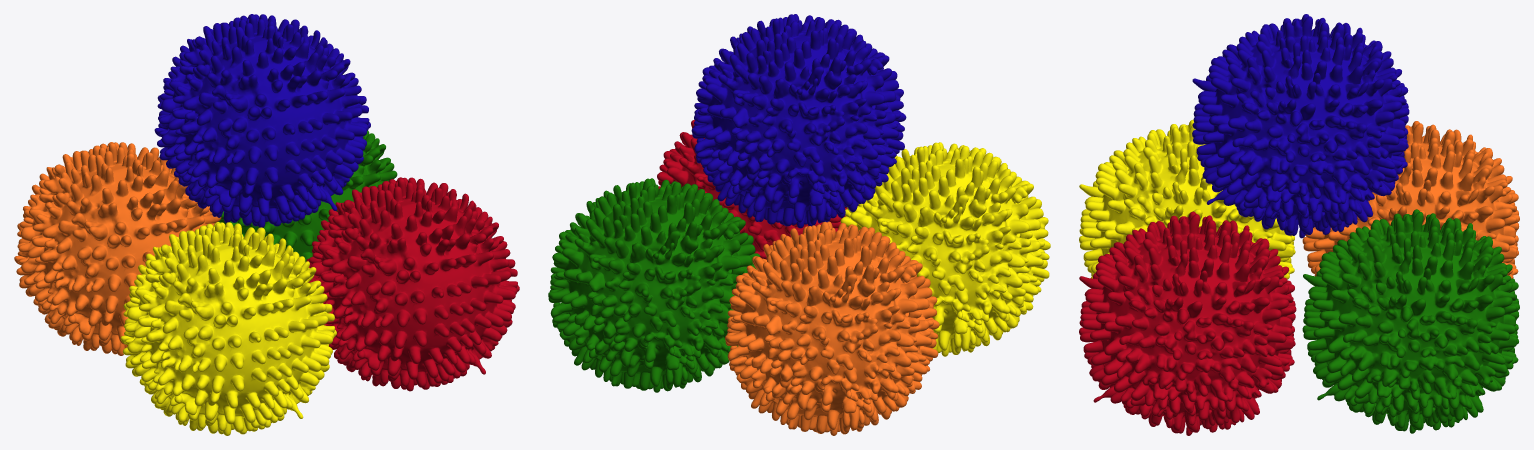
Rendered from Pompom-revisi.fbx.
3 views of the same model, side by side, from view 1: azimuth 30°, elevation 25°; view 2: azimuth 150°, elevation 25°; view 3: azimuth 270°, elevation 25° (orthographic). The views are drawn at different scales.
Parts seen in each view (by area): view 1: tripo_node_65faede3.004, tripo_node_65faede3.002, tripo_node_65faede3, tripo_node_65faede3.001, tripo_node_65faede3.003; view 2: tripo_node_65faede3.004, tripo_node_65faede3.001, tripo_node_65faede3.003, tripo_node_65faede3.002, tripo_node_65faede3; view 3: tripo_node_65faede3, tripo_node_65faede3.004, tripo_node_65faede3.003, tripo_node_65faede3.002, tripo_node_65faede3.001.
Part boxes in pixels (x1=…): tripo_node_65faede3.004: x1=154, y1=14, x2=370, y2=227; tripo_node_65faede3.002: x1=120, y1=222, x2=336, y2=435; tripo_node_65faede3: x1=306, y1=177, x2=519, y2=391; tripo_node_65faede3.001: x1=14, y1=142, x2=221, y2=355; tripo_node_65faede3.003: x1=218, y1=130, x2=397, y2=261; tripo_node_65faede3.004: x1=691, y1=14, x2=906, y2=228; tripo_node_65faede3.001: x1=725, y1=221, x2=939, y2=435; tripo_node_65faede3.003: x1=548, y1=178, x2=760, y2=392; tripo_node_65faede3.002: x1=840, y1=142, x2=1050, y2=356; tripo_node_65faede3: x1=657, y1=120, x2=847, y2=259; tripo_node_65faede3: x1=1079, y1=211, x2=1296, y2=435; tripo_node_65faede3.004: x1=1192, y1=14, x2=1409, y2=238; tripo_node_65faede3.003: x1=1302, y1=209, x2=1519, y2=433; tripo_node_65faede3.002: x1=1079, y1=119, x2=1295, y2=279; tripo_node_65faede3.001: x1=1302, y1=121, x2=1519, y2=278.
Size of the model in its own units: 101 by 90.09 by 103.
